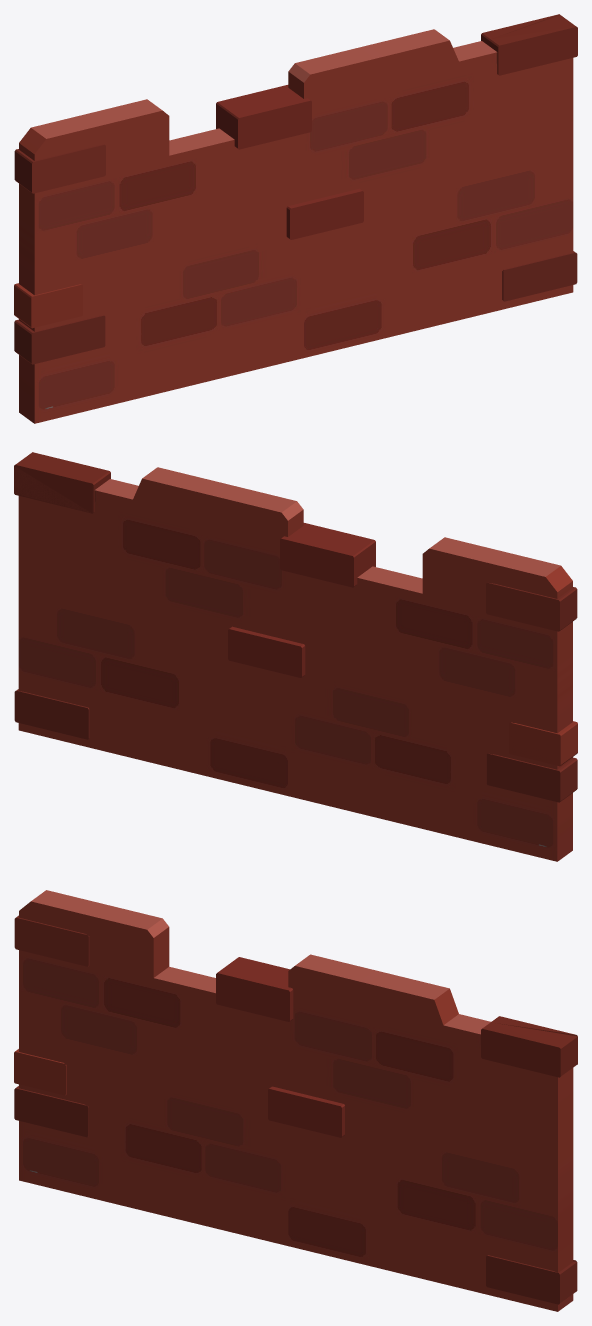
File: SM_BrickWall_03.fbx
3 renders of one model, top to bottom at view 1: azimuth 30°, elevation 25°; view 2: azimuth 150°, elevation 25°; view 3: azimuth 330°, elevation 25°, orthographic.
Visible parts, largest first — view 1: SM_BrickWall_03; view 2: SM_BrickWall_03; view 3: SM_BrickWall_03.
Part boxes in pixels (x1,y1,x2,y2): SM_BrickWall_03: (14, 14, 577, 423); SM_BrickWall_03: (14, 452, 577, 861); SM_BrickWall_03: (14, 890, 577, 1311).
Size of the model in its own units: 2.03 by 1 by 0.1414.
